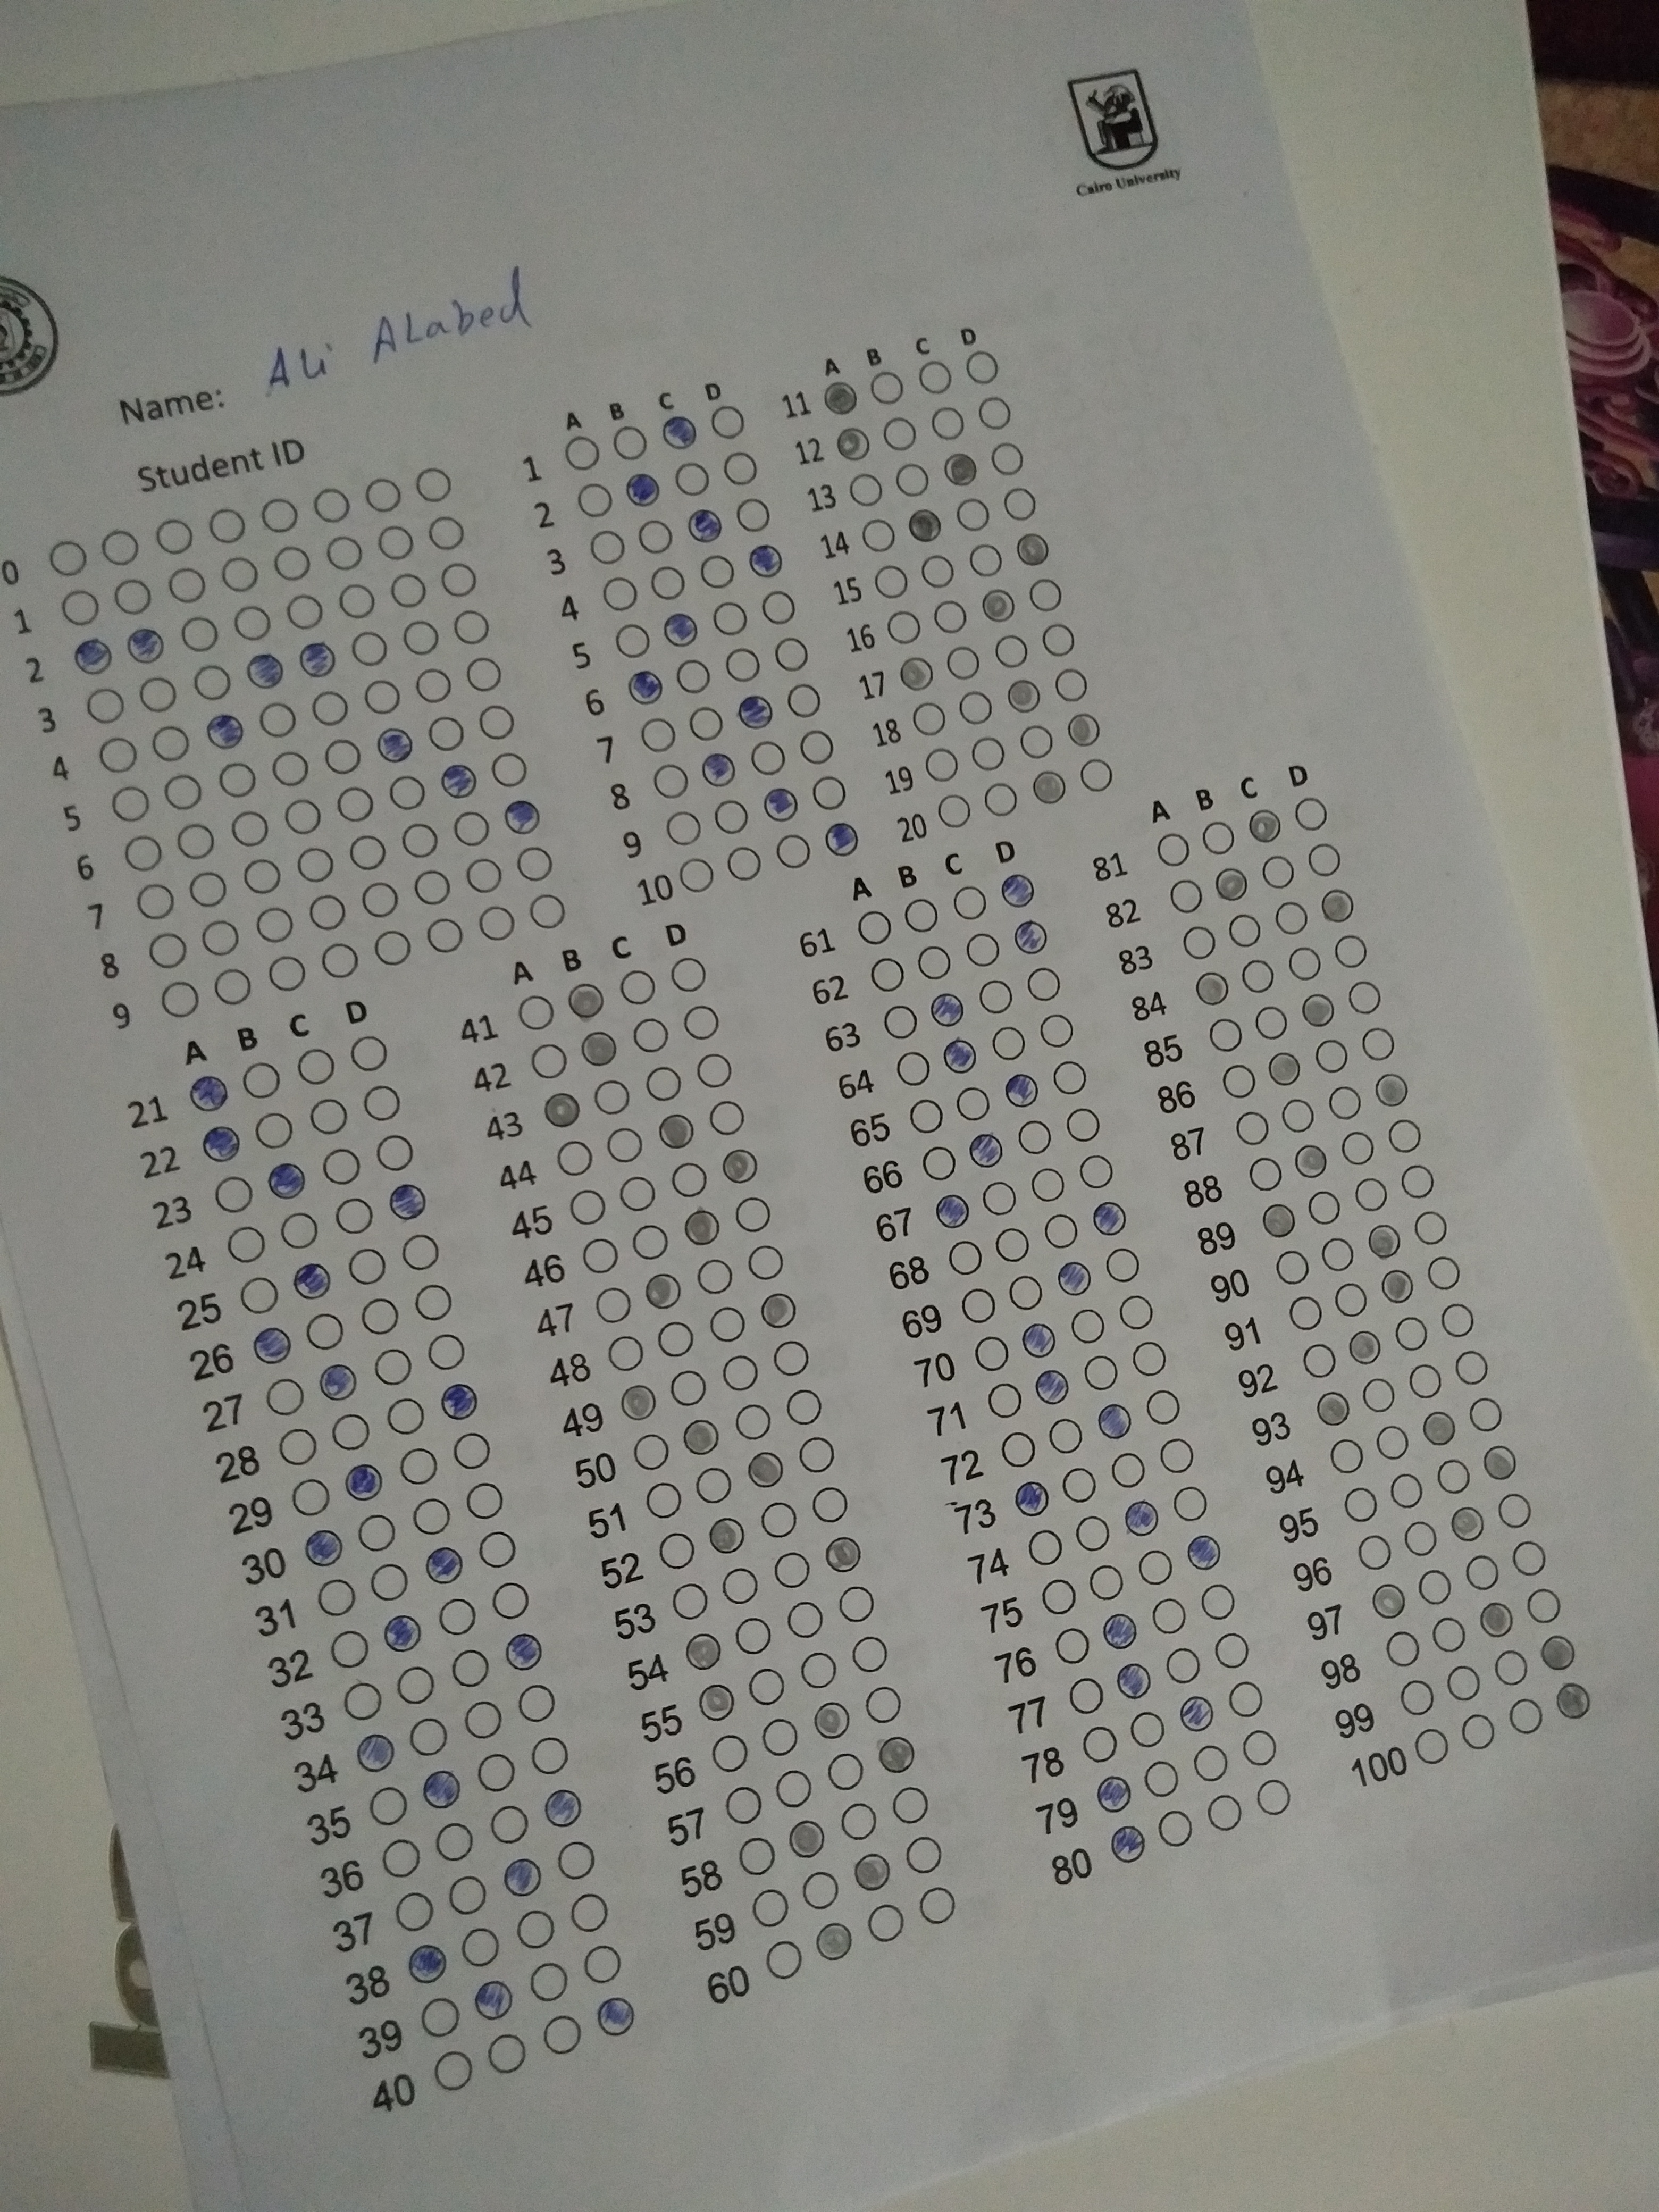not-c: (748, 1885, 793, 1928), (796, 1869, 842, 1912), (758, 1937, 803, 1980), (538, 2013, 584, 2057), (512, 1907, 558, 1951), (484, 2033, 530, 2076), (378, 1838, 423, 1881), (446, 1646, 491, 1689), (392, 1663, 437, 1707), (795, 1648, 840, 1691), (835, 1581, 880, 1625), (838, 1799, 884, 1843), (917, 1881, 960, 1925), (582, 1942, 626, 1986), (568, 1890, 612, 1933), (526, 1733, 570, 1777), (406, 1716, 450, 1759), (708, 1731, 753, 1773), (903, 1832, 948, 1874), (864, 1902, 910, 1944), (457, 1926, 502, 1968), (444, 1872, 490, 1914), (390, 1892, 436, 1933), (554, 1839, 599, 1881), (486, 1804, 532, 1846), (432, 1822, 477, 1864), (366, 1785, 411, 1827), (471, 1752, 516, 1794), (512, 1683, 558, 1724), (460, 1700, 505, 1742), (720, 1564, 762, 1609), (770, 1766, 816, 1808), (824, 1750, 870, 1792), (734, 1838, 779, 1879), (965, 1331, 1011, 1372), (981, 1381, 1026, 1423), (1072, 1510, 1117, 1552), (1079, 1723, 1124, 1764), (1133, 1547, 1178, 1588), (1237, 1728, 1283, 1770), (526, 1959, 570, 2001), (432, 2050, 476, 2092), (418, 1996, 462, 2038), (758, 1714, 802, 1756), (849, 1634, 892, 1676), (720, 1785, 763, 1827), (861, 1684, 904, 1726), (890, 1784, 934, 1825), (645, 1479, 688, 1521), (1225, 1679, 1269, 1721), (1157, 1433, 1201, 1475), (667, 1580, 713, 1620), (756, 1501, 802, 1541), (1079, 1353, 1124, 1393), (995, 1430, 1040, 1470), (1108, 1449, 1154, 1489), (1124, 1710, 1169, 1750), (1159, 1644, 1204, 1684), (1140, 1759, 1185, 1799), (629, 1432, 674, 1472), (653, 1531, 697, 1571), (1044, 1416, 1087, 1456), (1060, 1463, 1103, 1503), (1023, 1527, 1066, 1568), (1039, 1576, 1082, 1616), (1084, 1562, 1127, 1602), (1049, 1627, 1093, 1667), (1063, 1674, 1107, 1714), (1211, 1630, 1255, 1670), (1150, 1595, 1194, 1635), (1188, 1743, 1232, 1784), (1204, 1792, 1248, 1832), (1251, 1778, 1295, 1818), (1169, 1482, 1213, 1522), (1141, 1386, 1185, 1426), (1127, 1339, 1171, 1379), (1115, 1291, 1159, 1331), (957, 1284, 1000, 1324), (690, 1463, 734, 1503), (809, 1486, 852, 1526), (782, 1601, 826, 1641), (732, 1616, 775, 1656), (945, 1237, 988, 1277), (282, 796, 324, 836), (58, 589, 99, 629), (98, 528, 139, 568), (525, 892, 566, 932), (756, 587, 798, 627), (890, 460, 932, 500), (927, 402, 969, 442), (880, 413, 922, 453), (941, 643, 983, 683), (721, 644, 763, 685), (673, 657, 714, 697), (697, 552, 739, 592), (1025, 577, 1066, 617), (931, 597, 972, 637), (647, 563, 688, 603), (965, 540, 1007, 580), (598, 575, 640, 615), (573, 479, 615, 519), (730, 496, 772, 536), (718, 449, 760, 489), (669, 460, 711, 500), (608, 423, 650, 463), (709, 402, 751, 442), (772, 833, 814, 873), (721, 845, 763, 885), (676, 855, 718, 895), (662, 808, 704, 848), (711, 798, 753, 838), (809, 773, 850, 813), (796, 726, 838, 766), (979, 779, 1021, 819), (1049, 664, 1091, 704), (1037, 618, 1079, 658), (953, 686, 995, 726), (908, 698, 950, 738), (782, 681, 824, 721), (638, 716, 680, 756), (192, 662, 234, 702), (436, 559, 477, 599), (136, 674, 178, 714), (385, 570, 427, 610), (284, 590, 326, 631), (425, 512, 467, 552), (375, 524, 416, 564), (218, 554, 260, 594), (317, 941, 359, 981), (462, 855, 504, 895), (397, 820, 439, 860), (678, 1001, 720, 1042), (211, 967, 253, 1007), (199, 918, 240, 958), (145, 930, 186, 970), (110, 784, 152, 824), (173, 822, 214, 862), (122, 834, 164, 874), (512, 845, 554, 885), (490, 749, 532, 789), (361, 676, 403, 716), (425, 712, 467, 752), (411, 665, 453, 705), (308, 690, 350, 730), (98, 735, 139, 775), (423, 914, 465, 954), (476, 904, 518, 944), (347, 833, 389, 873), (335, 784, 376, 824), (228, 808, 270, 848), (974, 977, 1016, 1017), (880, 1001, 922, 1042), (866, 954, 908, 995), (950, 883, 992, 923), (901, 895, 943, 935), (854, 907, 896, 948), (667, 954, 709, 995), (617, 967, 659, 1007), (225, 1224, 267, 1264), (361, 1082, 403, 1122), (795, 1433, 836, 1474), (730, 1400, 772, 1440), (720, 1353, 762, 1393), (591, 1285, 633, 1325), (782, 1386, 824, 1426), (329, 1629, 371, 1669), (488, 1581, 530, 1622), (462, 1480, 504, 1521), (411, 1496, 453, 1536), (382, 1395, 423, 1435), (275, 1426, 317, 1467), (425, 1332, 467, 1372), (411, 1282, 453, 1322), (239, 1275, 281, 1315), (770, 1339, 812, 1379), (706, 1305, 748, 1345), (694, 1256, 735, 1296), (629, 1223, 671, 1263), (746, 1242, 788, 1282), (730, 1195, 772, 1235), (669, 1160, 711, 1200), (1354, 1533, 1396, 1573), (1218, 1062, 1260, 1103), (1424, 1252, 1466, 1292), (1330, 1280, 1371, 1320), (1284, 1292, 1326, 1332), (1438, 1299, 1480, 1339), (1450, 1346, 1492, 1386), (1462, 1395, 1504, 1435), (1434, 1456, 1476, 1496), (1413, 1568, 1455, 1608), (1492, 1648, 1534, 1688), (1249, 1001, 1291, 1042), (1312, 1035, 1354, 1075), (1246, 1155, 1288, 1195), (1338, 1129, 1380, 1169), (1385, 1115, 1427, 1155), (1396, 1163, 1438, 1204), (1351, 1174, 1392, 1214), (1410, 1207, 1452, 1247), (1101, 1245, 1143, 1285), (1004, 1271, 1046, 1312), (1040, 1211, 1082, 1251), (992, 1224, 1033, 1264), (1075, 1151, 1117, 1191), (1060, 1104, 1101, 1144), (917, 1143, 958, 1183), (1047, 1057, 1089, 1097), (951, 1083, 993, 1123), (904, 1097, 946, 1137), (1035, 1008, 1077, 1049), (988, 1022, 1030, 1062), (892, 1049, 934, 1089), (1021, 963, 1063, 1003), (1358, 1024, 1399, 1064), (1236, 956, 1277, 996), (1270, 899, 1312, 939), (1222, 911, 1263, 951), (1178, 923, 1220, 963), (1255, 852, 1297, 892), (1290, 791, 1331, 831), (1197, 815, 1239, 855), (1152, 829, 1194, 869), (1232, 1108, 1274, 1148), (1277, 1096, 1319, 1136), (153, 517, 193, 557), (988, 439, 1028, 479), (915, 357, 955, 397), (990, 631, 1030, 671), (610, 620, 650, 660), (884, 608, 924, 648), (856, 516, 896, 556), (561, 435, 601, 475), (525, 890, 565, 930), (324, 531, 364, 571), (272, 543, 312, 583), (160, 979, 200, 1019), (373, 928, 413, 968), (359, 880, 399, 920), (242, 857, 282, 897), (643, 1062, 683, 1103), (591, 1076, 631, 1116), (528, 1042, 568, 1082), (915, 942, 955, 982), (242, 1061, 282, 1101), (655, 1318, 695, 1359), (368, 1562, 408, 1602), (289, 1477, 329, 1517), (397, 1447, 437, 1487), (303, 1312, 343, 1352), (566, 1188, 606, 1228), (1401, 1519, 1441, 1559), (1340, 1484, 1380, 1524), (1272, 1247, 1312, 1287), (1392, 1313, 1432, 1353), (1298, 1339, 1338, 1379), (1405, 1360, 1445, 1400), (1358, 1374, 1398, 1414), (1371, 1421, 1412, 1461), (1462, 1552, 1502, 1592), (1382, 1629, 1422, 1669), (1429, 1616, 1469, 1656), (1499, 1491, 1539, 1531), (1509, 1538, 1549, 1578), (1523, 1587, 1563, 1627), (1443, 1663, 1483, 1703), (1396, 1677, 1436, 1717), (1412, 1726, 1452, 1766), (1459, 1712, 1499, 1752), (1507, 1695, 1547, 1735), (1204, 1014, 1244, 1054), (1303, 1186, 1344, 1226), (1068, 1306, 1108, 1346), (1028, 1165, 1068, 1205), (1012, 1118, 1053, 1158), (1166, 874, 1206, 914), (1284, 944, 1324, 984), (1330, 932, 1370, 972), (1303, 838, 1344, 878), (413, 465, 455, 503), (164, 566, 206, 604), (112, 577, 153, 615), (310, 486, 352, 524), (206, 507, 247, 545), (976, 395, 1018, 434), (960, 347, 1002, 385), (866, 369, 908, 408), (708, 599, 749, 637), (772, 634, 814, 672), (871, 563, 913, 601), (999, 484, 1040, 523), (584, 528, 626, 566), (634, 519, 676, 557), (748, 738, 789, 777), (922, 745, 964, 784), (1014, 723, 1056, 761), (932, 792, 974, 831), (1073, 756, 1115, 794), (349, 629, 390, 667), (84, 686, 125, 725), (464, 655, 505, 693), (450, 608, 491, 646), (336, 582, 378, 620), (232, 604, 274, 643), (181, 615, 223, 653), (361, 475, 403, 514), (385, 773, 427, 812), (321, 737, 362, 775), (268, 749, 310, 787), (185, 869, 227, 907), (134, 883, 176, 921), (160, 775, 202, 813), (450, 810, 491, 848), (476, 704, 518, 742), (254, 700, 296, 738), (148, 725, 190, 763), (411, 867, 453, 906), (295, 843, 336, 881), (307, 894, 349, 932), (605, 1334, 647, 1372), (629, 1015, 671, 1054), (962, 930, 1004, 968), (401, 1231, 443, 1270), (333, 1197, 375, 1235), (373, 1134, 415, 1172), (279, 1211, 321, 1249), (214, 1174, 256, 1212), (307, 1097, 349, 1136), (253, 1111, 295, 1150), (349, 1033, 390, 1071), (295, 1047, 336, 1085), (577, 1237, 619, 1275), (342, 1681, 383, 1719), (436, 1597, 477, 1635), (315, 1578, 357, 1616), (476, 1529, 518, 1568), (355, 1514, 397, 1552), (451, 1432, 493, 1470), (329, 1413, 371, 1451), (371, 1348, 413, 1386), (357, 1298, 399, 1336), (347, 1247, 389, 1285), (617, 1174, 659, 1212), (706, 1097, 748, 1136), (694, 1052, 735, 1090), (1382, 1468, 1424, 1507), (1323, 1083, 1364, 1122), (1316, 1235, 1358, 1273), (978, 1179, 1019, 1217), (1344, 977, 1385, 1015), (258, 496, 298, 535), (45, 540, 85, 578), (918, 552, 958, 590), (951, 496, 992, 535), (845, 470, 885, 509), (650, 763, 690, 801), (969, 735, 1009, 773), (688, 704, 728, 742), (216, 761, 256, 799), (254, 906, 295, 944), (265, 953, 305, 991), (554, 1139, 594, 1177), (516, 993, 556, 1031), (321, 1148, 361, 1186), (667, 1369, 708, 1407), (265, 1378, 305, 1416), (605, 1125, 645, 1163), (1155, 1808, 1195, 1846), (1326, 1437, 1366, 1475), (1197, 1583, 1237, 1622)
taken-c: (406, 1942, 450, 1984), (817, 378, 859, 418), (821, 819, 863, 859), (760, 784, 802, 824), (997, 871, 1039, 911), (1209, 866, 1251, 906), (1030, 766, 1072, 806), (1004, 676, 1046, 716), (979, 585, 1021, 625), (894, 653, 936, 693), (831, 425, 873, 465), (1012, 528, 1054, 568), (903, 503, 945, 543), (939, 449, 981, 489), (695, 751, 737, 791), (734, 691, 775, 732), (626, 669, 667, 709), (660, 610, 702, 650), (681, 505, 723, 545), (619, 469, 660, 509), (659, 411, 701, 451), (265, 1160, 307, 1200), (200, 1125, 242, 1165), (188, 1073, 230, 1113), (500, 798, 542, 838), (373, 725, 415, 765), (204, 711, 246, 751), (296, 639, 338, 679), (242, 651, 284, 691), (125, 625, 167, 665), (71, 637, 113, 678), (929, 1191, 971, 1231), (965, 1130, 1007, 1170), (941, 1036, 983, 1076), (927, 989, 969, 1029), (678, 1209, 720, 1249), (1192, 968, 1234, 1008), (643, 1271, 685, 1312), (720, 1146, 762, 1186), (387, 1183, 429, 1223), (655, 1111, 697, 1151), (565, 981, 606, 1021), (1474, 1599, 1516, 1639), (1364, 1581, 1406, 1622), (1009, 1479, 1051, 1519), (1445, 1503, 1486, 1543), (1417, 1409, 1459, 1449), (1310, 1388, 1352, 1428), (1093, 1402, 1134, 1442), (1033, 1366, 1075, 1406), (1016, 1318, 1058, 1359), (1053, 1258, 1094, 1298), (1087, 1198, 1129, 1238), (1344, 1325, 1385, 1366), (1377, 1268, 1419, 1308), (1363, 1221, 1405, 1261), (1293, 1143, 1335, 1183), (1298, 989, 1340, 1029), (1319, 887, 1361, 927), (695, 1681, 737, 1721), (810, 1700, 852, 1740), (786, 1818, 828, 1858), (812, 1921, 854, 1961), (1107, 1824, 1148, 1864), (1175, 1695, 1216, 1735), (1112, 1660, 1154, 1700), (1098, 1611, 1140, 1651), (251, 1327, 293, 1367), (437, 1381, 479, 1421), (305, 1527, 347, 1568), (422, 1545, 464, 1585), (382, 1613, 423, 1653), (502, 1857, 544, 1897), (542, 1789, 584, 1829), (594, 1996, 636, 2036), (619, 1383, 660, 1423), (746, 1449, 788, 1489), (823, 1536, 864, 1576), (681, 1632, 723, 1672), (704, 1514, 746, 1554), (760, 1291, 802, 1331), (1265, 1049, 1305, 1089), (1009, 918, 1049, 958), (542, 1089, 582, 1129), (579, 1028, 619, 1068), (1182, 1533, 1222, 1573), (1122, 1498, 1162, 1538), (1553, 1681, 1593, 1721), (1480, 1442, 1520, 1482), (1260, 1200, 1300, 1240), (1373, 1069, 1413, 1109), (850, 1851, 890, 1892), (1094, 1775, 1134, 1815), (317, 1360, 357, 1400), (504, 1632, 544, 1672), (354, 1733, 394, 1773), (422, 1768, 462, 1808), (474, 1980, 514, 2020), (681, 1416, 721, 1456), (1244, 805, 1286, 843), (744, 540, 786, 578), (291, 1261, 333, 1299), (439, 761, 481, 799), (1537, 1634, 1579, 1672), (343, 1463, 385, 1501), (1063, 711, 1103, 749), (1002, 1071, 1042, 1109), (877, 1735, 917, 1773)
